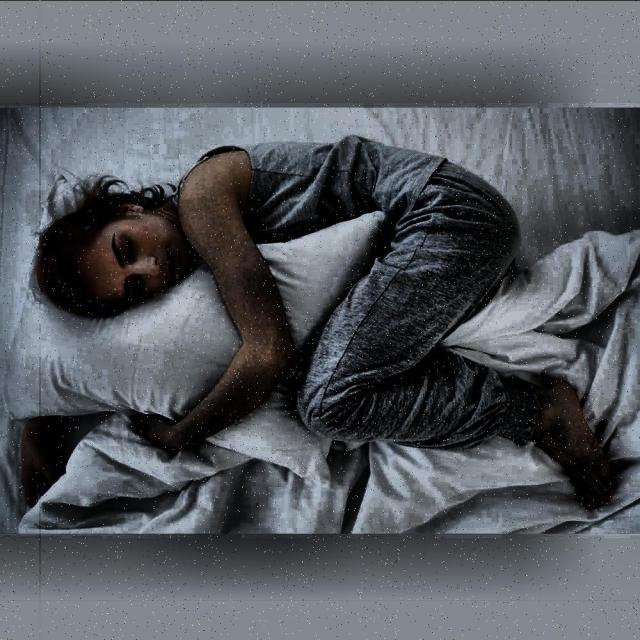Not_Supine: (36, 136, 610, 505)
